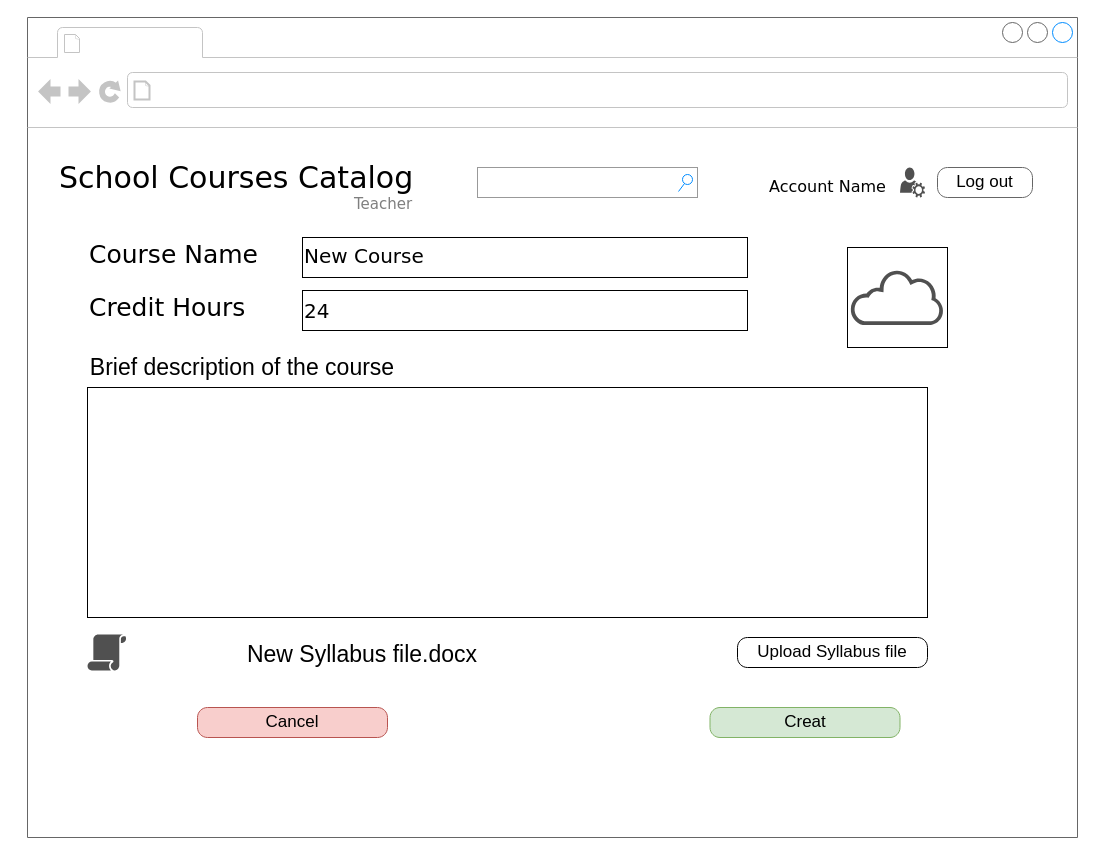
The diagram is 1095 pixels wide and 855 high, and some of its shapes have lost their labels. Here are the shapes that lost their labels. From the top down, the centre of each, then its label:
(x=142, y=42): Page 1
(x=282, y=90): https://www.default.com
(x=587, y=182): Search the course
